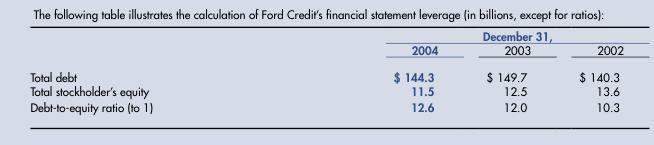table: (29, 28, 622, 114)
table column: (29, 28, 272, 114), (272, 28, 461, 114), (461, 28, 554, 114), (554, 28, 622, 114)
table column header: (29, 28, 622, 63)
table row: (29, 42, 622, 63), (29, 63, 622, 84), (29, 84, 622, 99), (29, 99, 622, 114), (29, 28, 622, 42)
table spanning cell: (272, 28, 622, 42)
